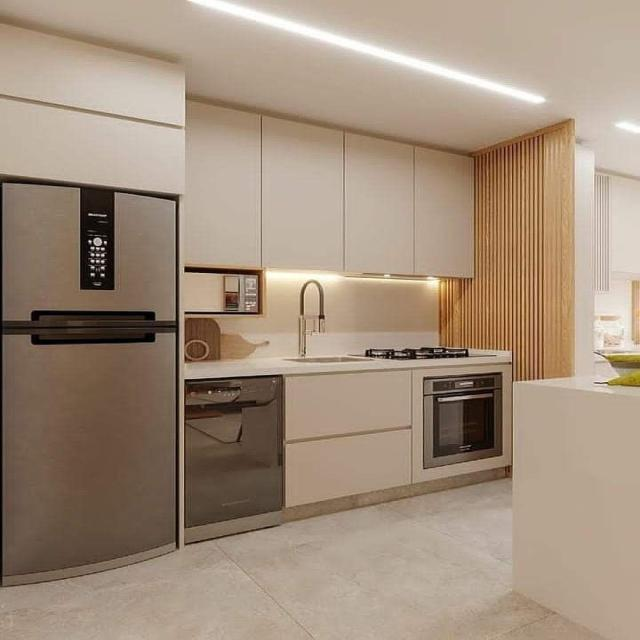obstacle: (0, 178, 180, 586), (183, 99, 478, 277)
